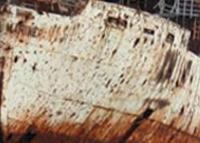rust: (90, 118, 192, 143), (156, 36, 196, 93), (5, 116, 67, 143), (103, 14, 133, 33)
